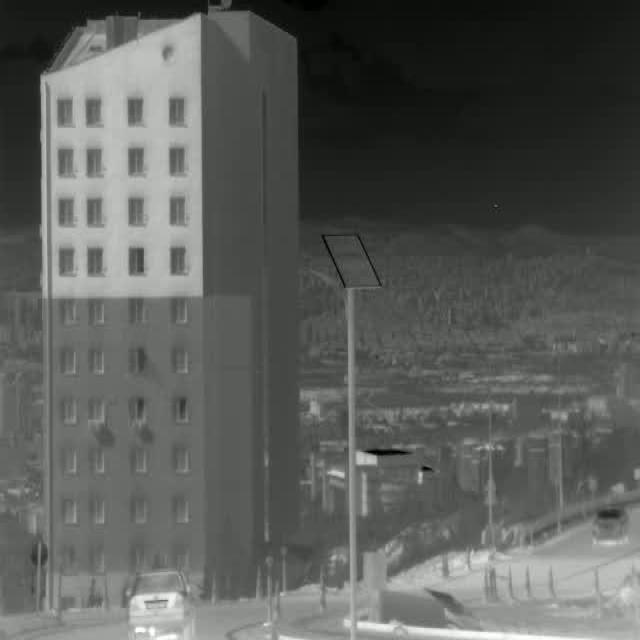Car: (126, 565, 198, 640), (591, 506, 632, 550)
